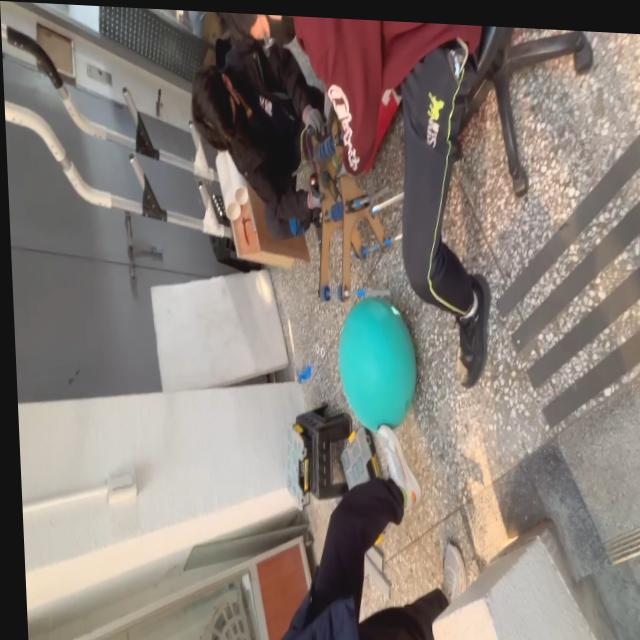ALGAE: (334, 293, 420, 437)
